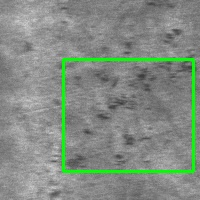rolled-in_scale: (63, 59, 193, 171)
